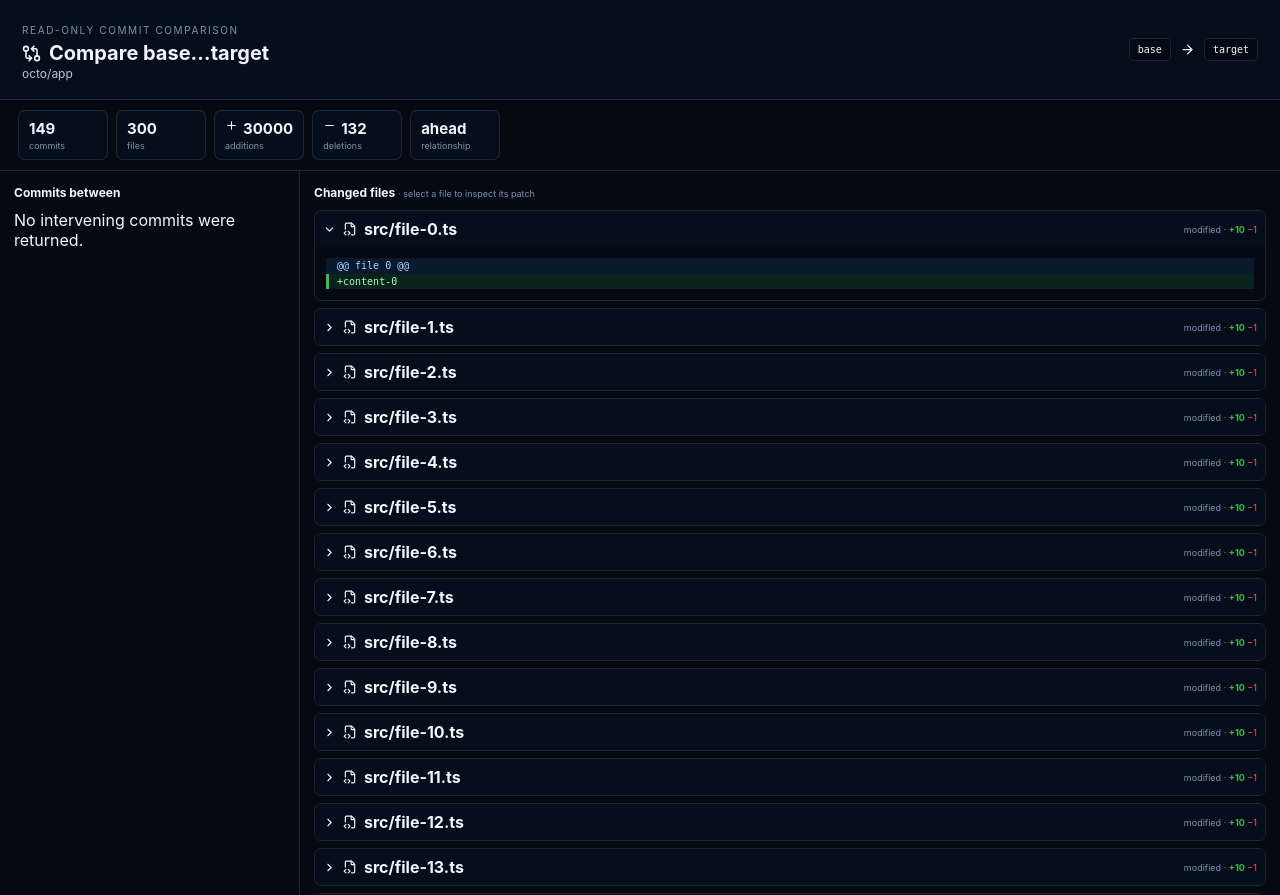
CommitComparisonPage performance bounds › mounts at most one patch while keeping all file headers available
Expected: the text "300" is shown, [127,119,157,138]
Expected: the number of elements with test id "compare-file-patch" is 1, [326,258,1254,289]
Click the button "src/file-1.ts modified · +10 −1": point(409, 327) [315,309,1265,345]
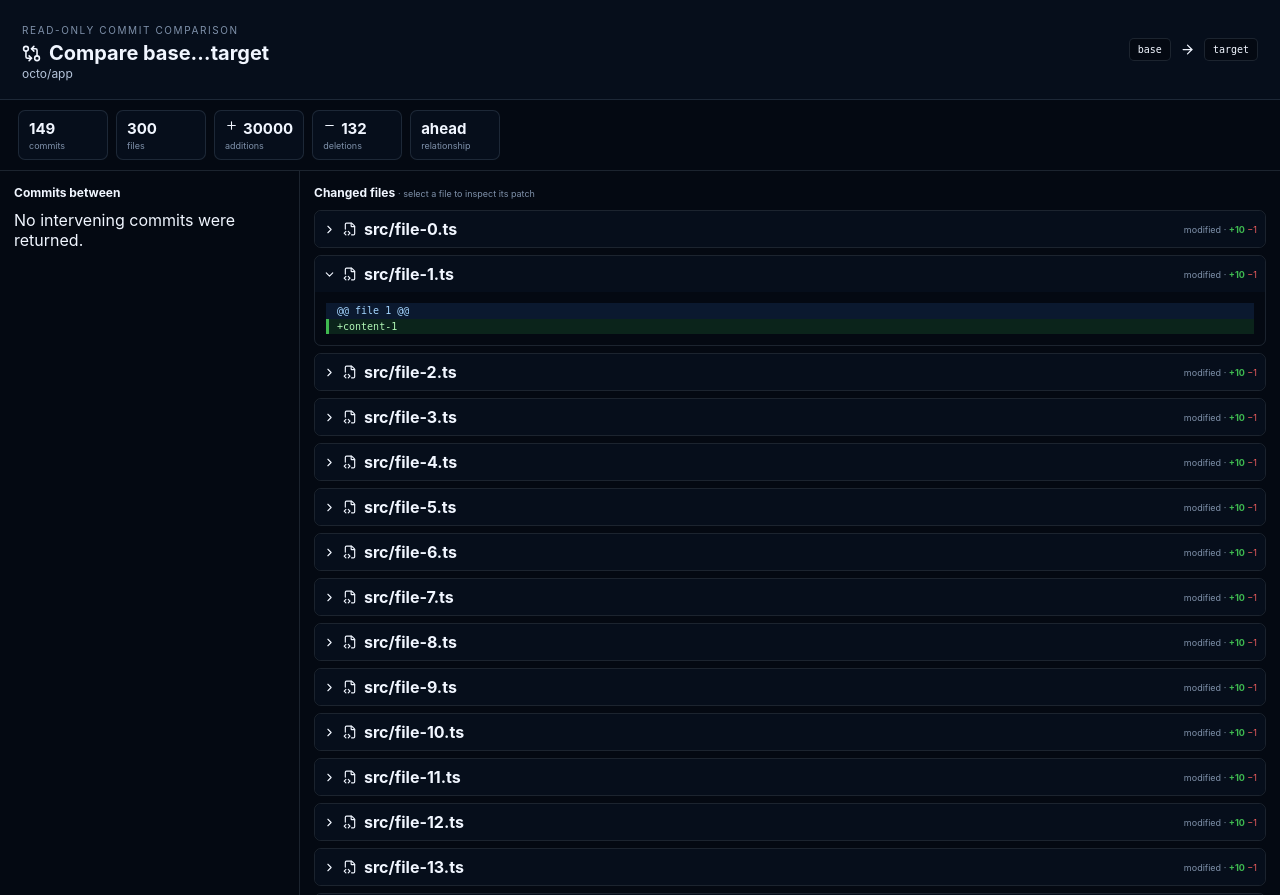
Expected: the number of elements with test id "compare-file-patch" is 1, [326,303,1254,334]
Result: the element with test id "compare-file-patch" shows "content-1" at [337,320,397,332]
Result: the text "content-0" is gone
